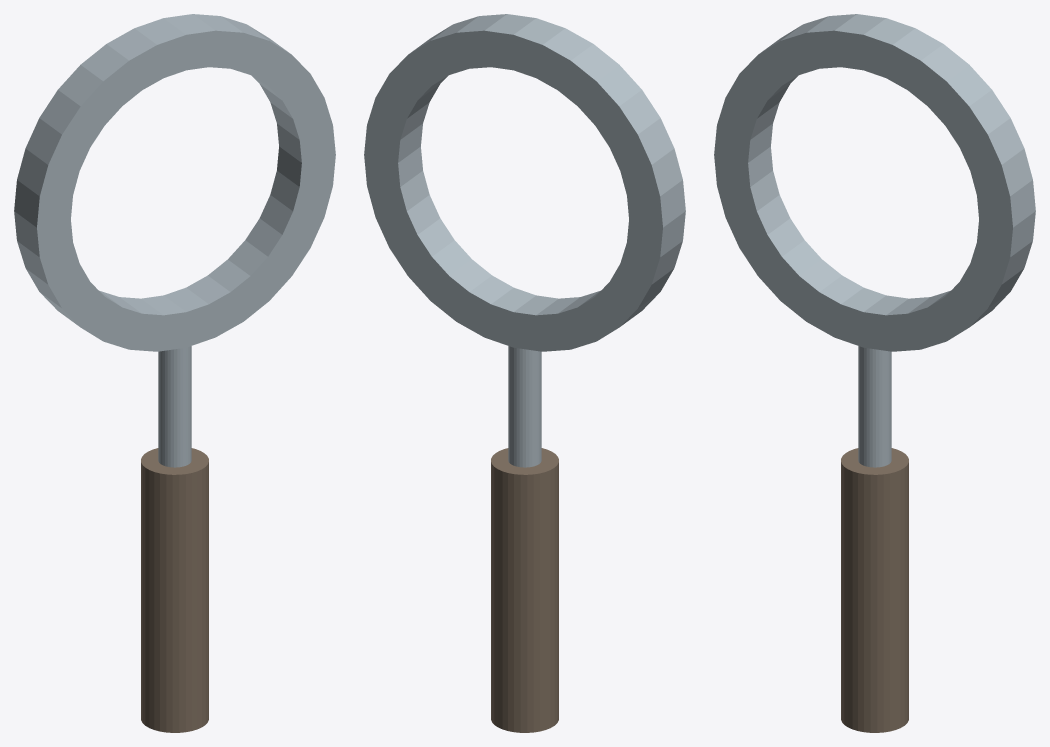
Rendered from ha_magnifyingglass.gltf.
3 views of the same model, side by side, from view 1: azimuth 30°, elevation 25°; view 2: azimuth 150°, elevation 25°; view 3: azimuth 330°, elevation 25° (orthographic).
Parts seen in each view (by area): view 1: MagnifyingGlass; view 2: MagnifyingGlass; view 3: MagnifyingGlass.
Boxes of the visible parts, x1=… form: MagnifyingGlass: x1=14, y1=14, x2=335, y2=732; MagnifyingGlass: x1=364, y1=14, x2=685, y2=732; MagnifyingGlass: x1=714, y1=14, x2=1035, y2=732.
Size of the model in its own units: 0.1949 by 0.4312 by 0.0385.
